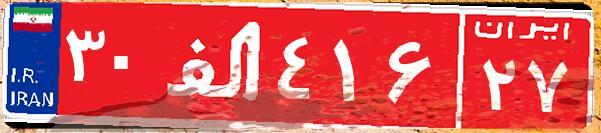0: (110, 28, 158, 105)
1: (330, 28, 385, 110)
2: (475, 38, 525, 113)
3: (57, 26, 110, 107)
4: (273, 28, 330, 110)
6: (385, 28, 445, 110)
7: (525, 38, 570, 115)
الف: (158, 15, 273, 115)
